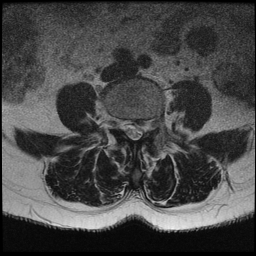CCS_normal: (132, 114, 139, 147)
LFS_normal: (146, 111, 154, 139)
LLS_normal: (139, 115, 146, 143)
RFS_normal: (116, 111, 124, 139)
RLS_normal: (125, 113, 132, 142)
